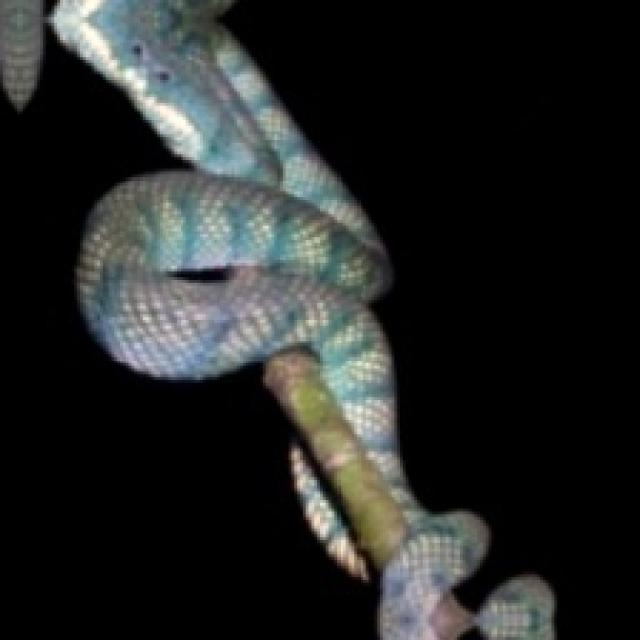north ph temple pitviper: (51, 0, 488, 640), (475, 576, 554, 640)
